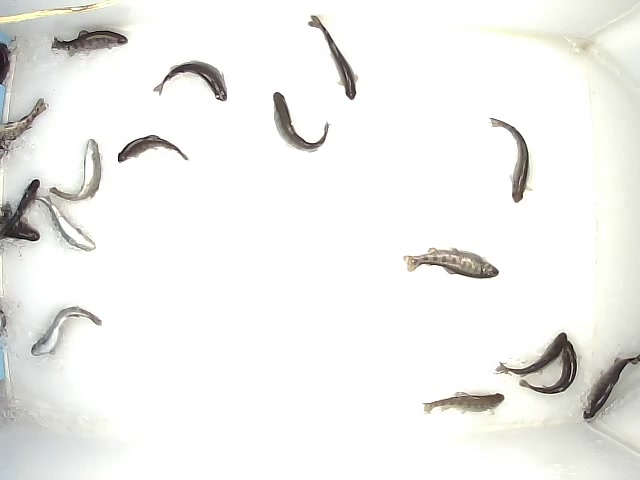fish: (307, 14, 358, 100), (488, 117, 534, 204), (31, 192, 97, 252), (581, 353, 640, 420), (272, 91, 331, 154), (48, 138, 103, 202), (401, 245, 500, 280), (151, 59, 228, 103), (518, 340, 579, 395), (493, 331, 568, 375), (50, 29, 130, 57), (116, 134, 189, 164), (421, 390, 505, 416)
